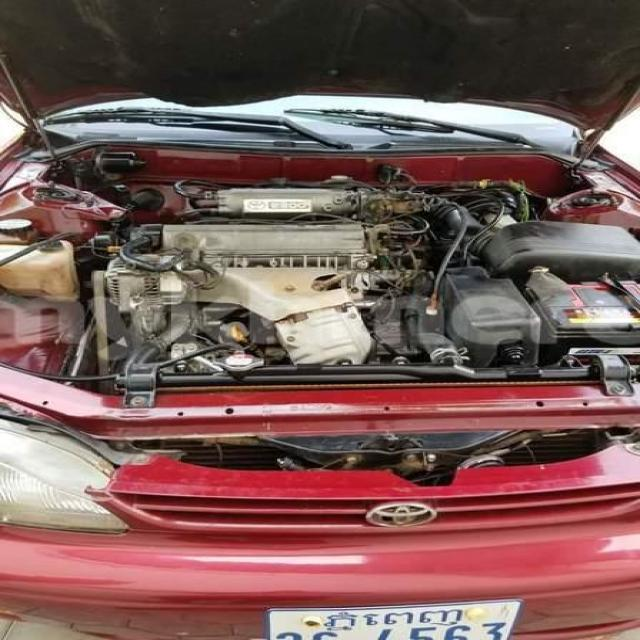Phnom_Penh: (325, 608, 462, 632)
